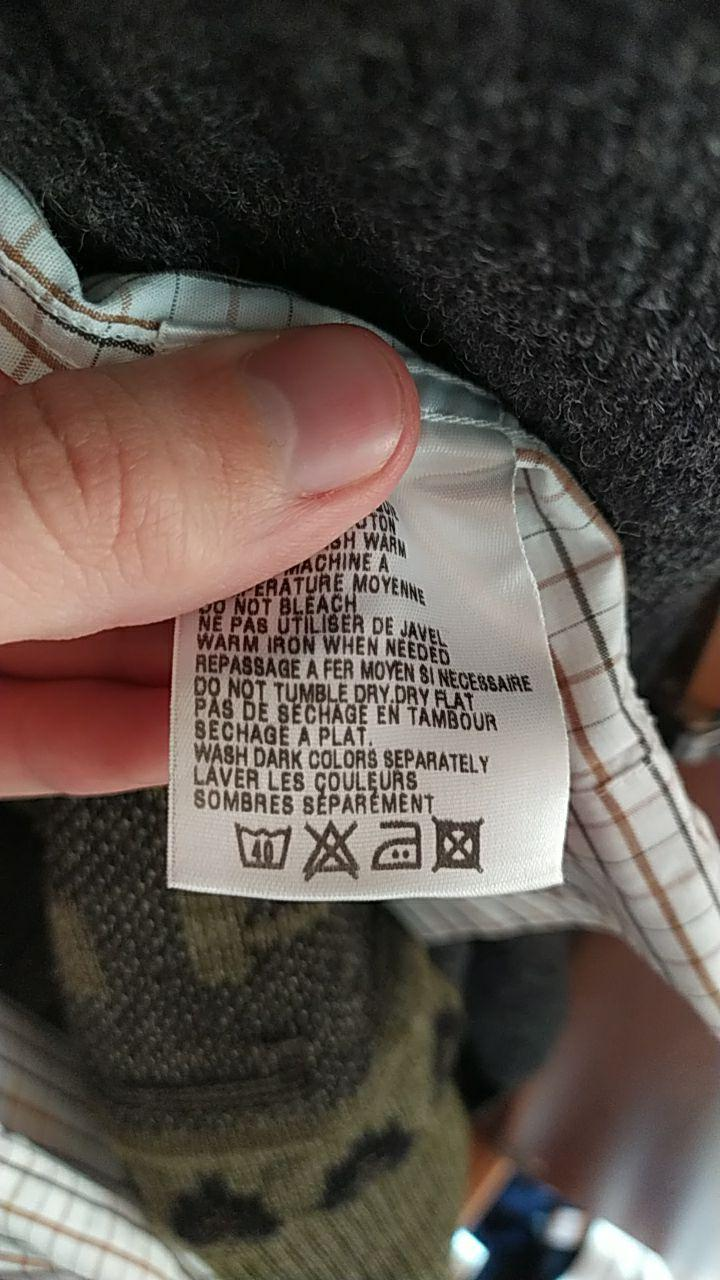40C: (226, 817, 298, 873)
DN_bleach: (303, 817, 363, 880)
DN_tumble_dry: (430, 813, 490, 872)
iron_medium: (375, 814, 424, 877)
